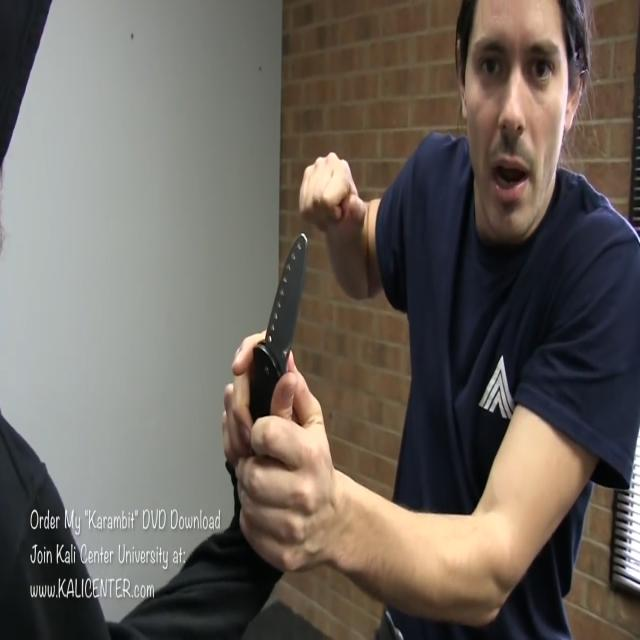knife: (256, 230, 314, 374)
